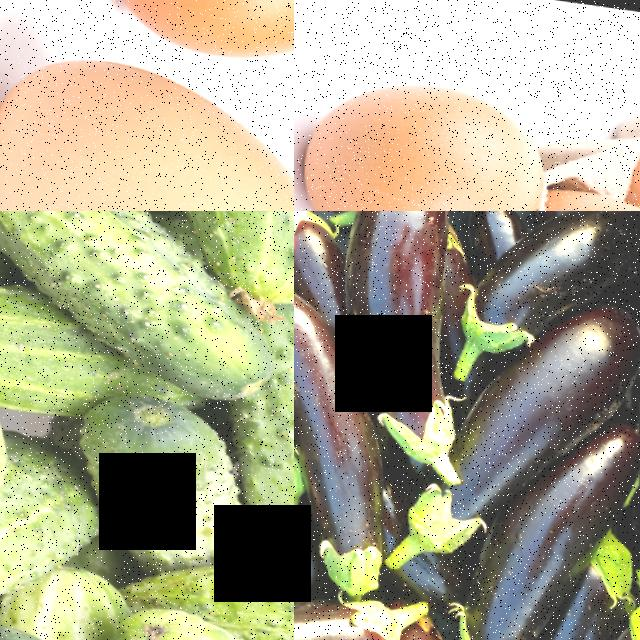cucumber: (71, 378, 242, 554), (0, 261, 107, 407), (0, 211, 177, 297), (223, 380, 294, 567), (171, 211, 294, 305), (184, 540, 294, 640), (106, 597, 280, 640)
egg_: (0, 36, 294, 211), (294, 56, 550, 211), (100, 0, 294, 73)
eggplant: (338, 211, 465, 453), (454, 211, 623, 355), (296, 354, 390, 583), (294, 211, 349, 302)
